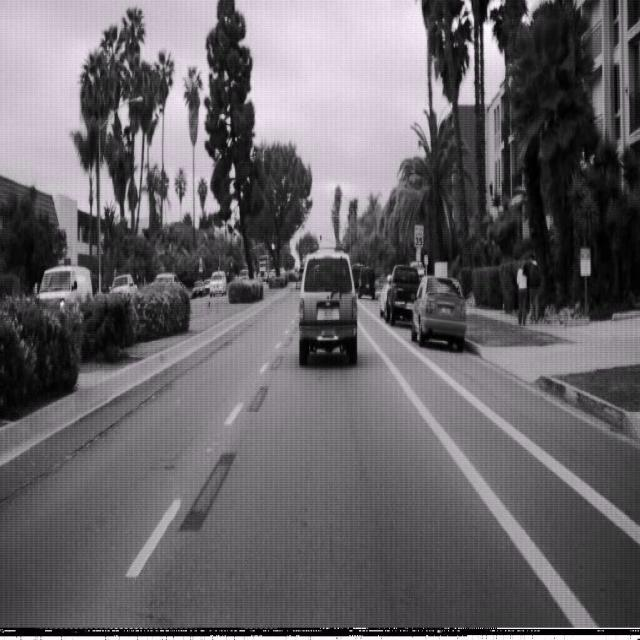speedLimit35: (413, 223, 424, 249)
